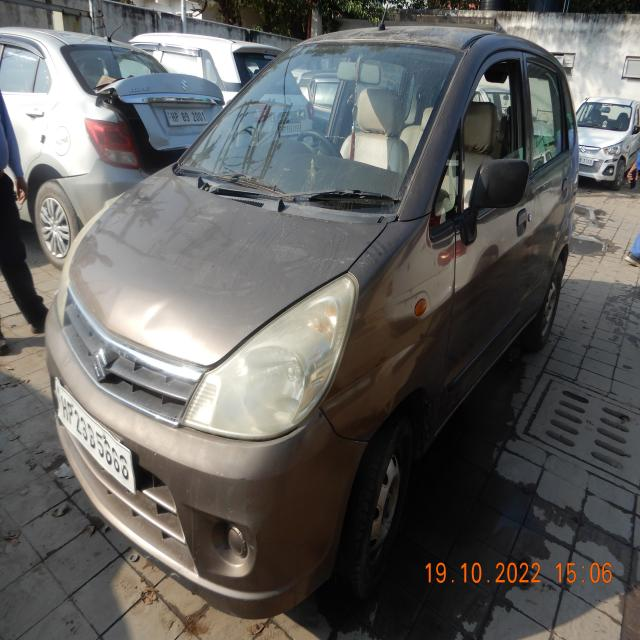damage: (143, 553, 179, 580), (141, 298, 164, 332), (281, 539, 309, 551), (235, 475, 248, 483), (254, 536, 260, 553)
